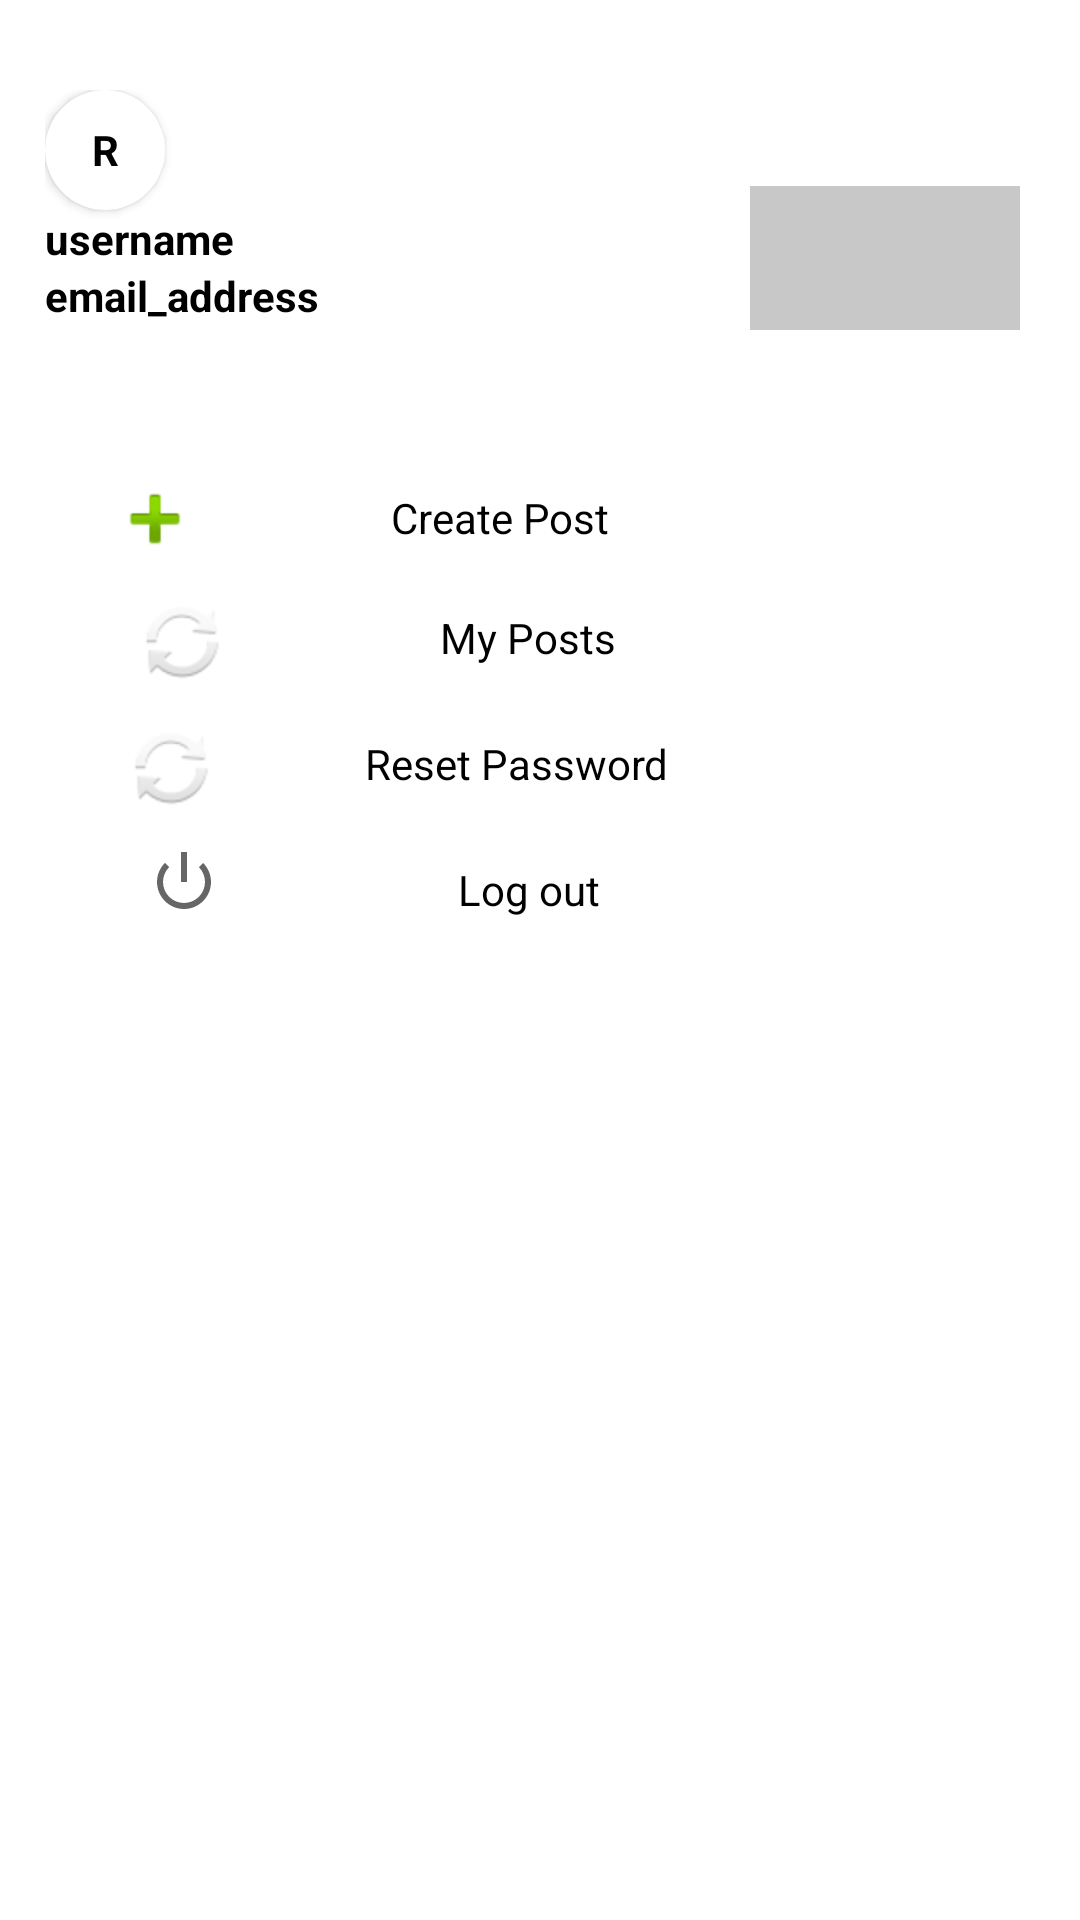

Point at icon controls on the screen. Image size 1080*1920, points as (x,y).
add: (155,519)
lock power off: (184,880)
popup sync: (182,646), (171,772)
